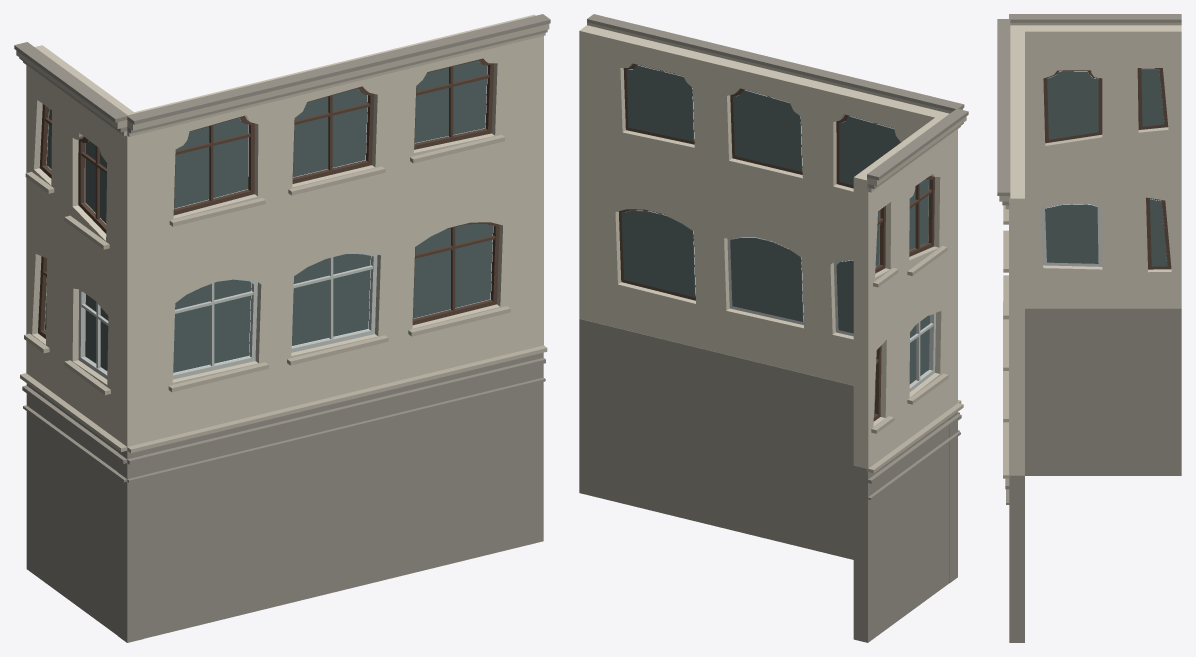
The model's file is lod-source.glb.
3 views of the same model, side by side, from view 1: azimuth 30°, elevation 25°; view 2: azimuth 150°, elevation 25°; view 3: azimuth 270°, elevation 25° (orthographic). The views are drawn at different scales.
Parts seen in each view (by area): view 1: 愚园路1112弄4号蒋光鼐旧居; view 2: 愚园路1112弄4号蒋光鼐旧居; view 3: 愚园路1112弄4号蒋光鼐旧居.
Part boxes in pixels (bbox=[...]): 愚园路1112弄4号蒋光鼐旧居: bbox=[14, 14, 550, 642]; 愚园路1112弄4号蒋光鼐旧居: bbox=[579, 14, 968, 642]; 愚园路1112弄4号蒋光鼐旧居: bbox=[997, 14, 1181, 642].
Size of the model in its own units: 9.72 by 11.42 by 4.24.
